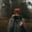Face: (10, 7, 25, 20)
